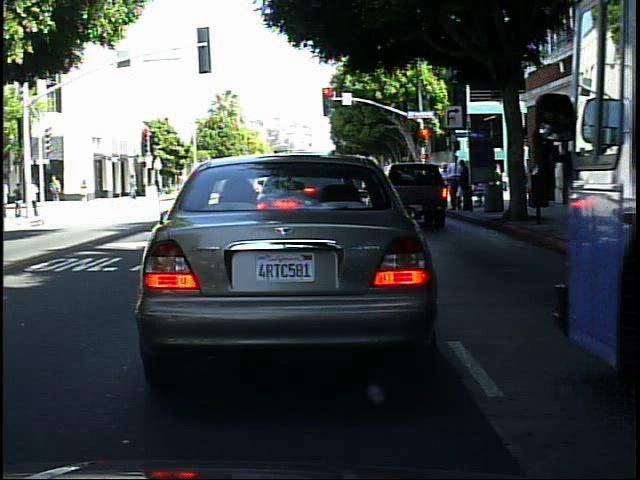person: (11, 178, 26, 220), (48, 170, 67, 203), (76, 173, 94, 207), (125, 168, 142, 202), (30, 172, 43, 216)
